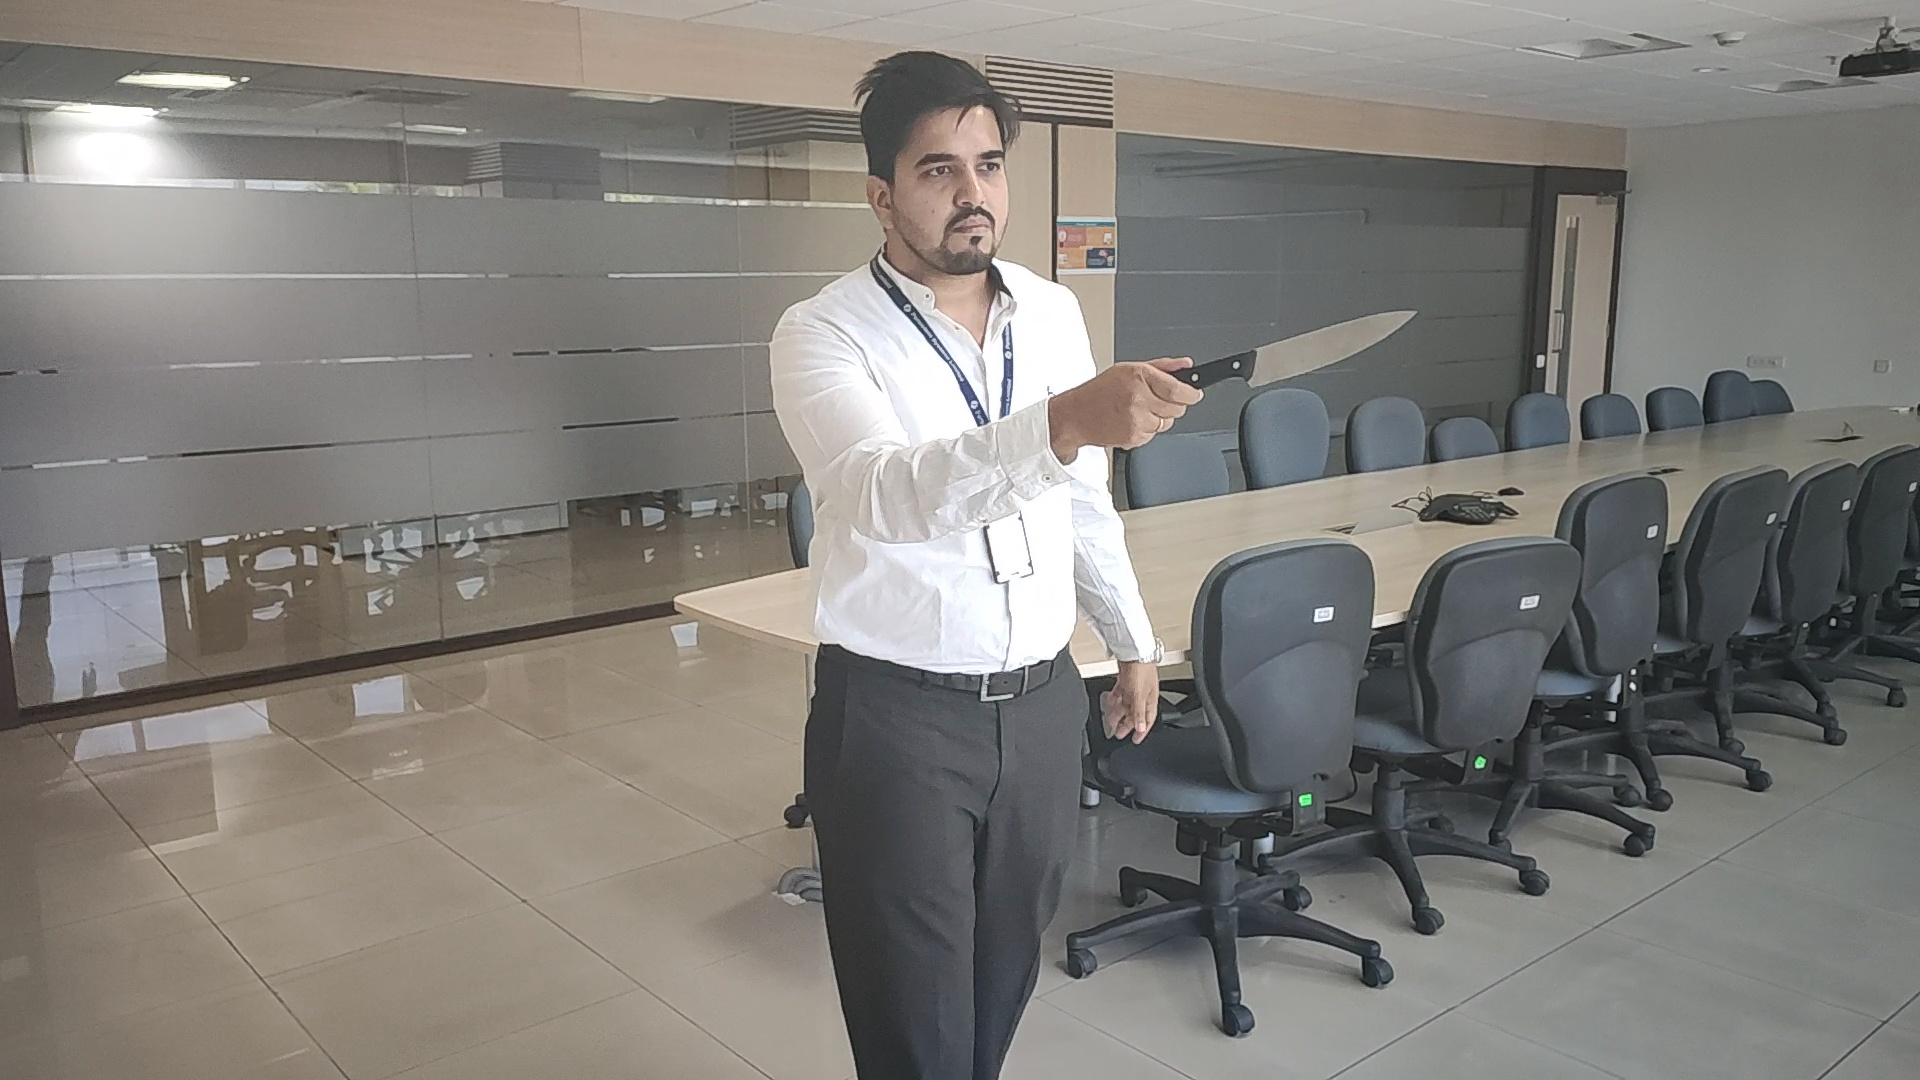knife: (1205, 309, 1420, 390)
